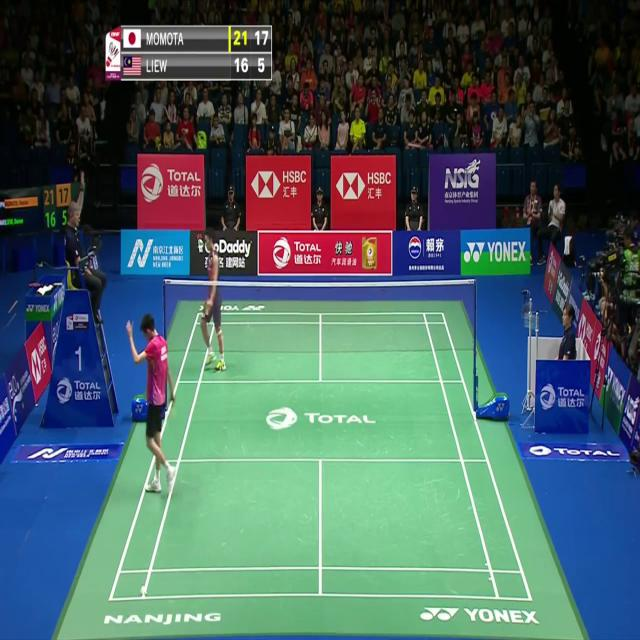Shuttlecock: (141, 585, 147, 597)
